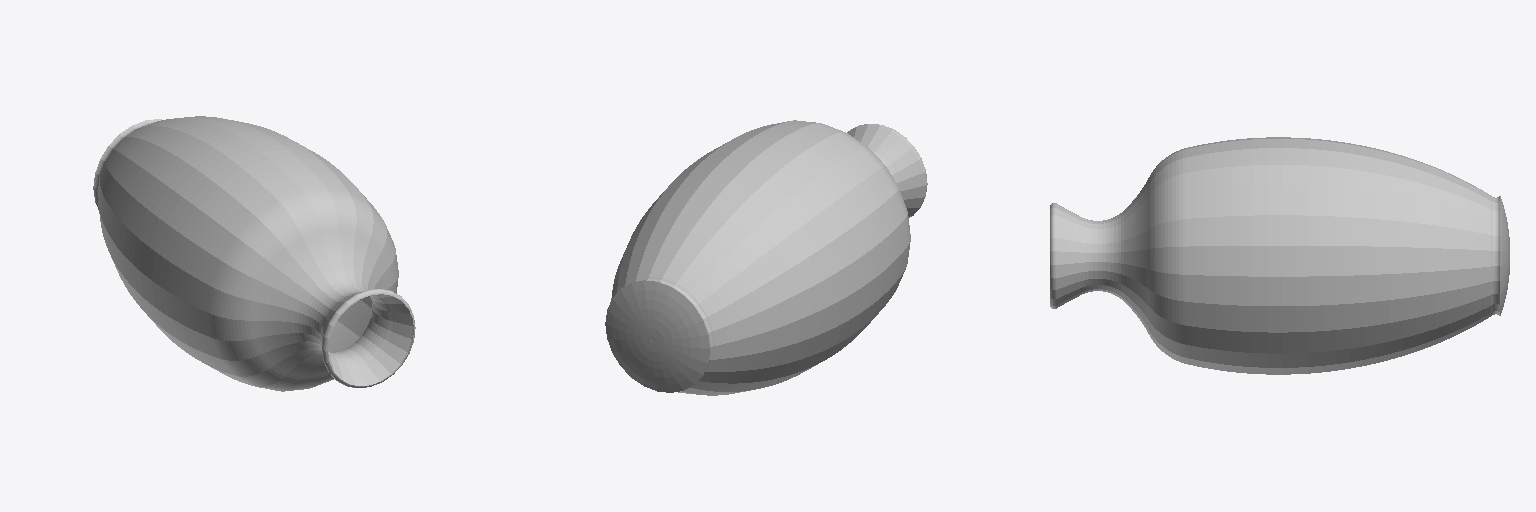
File: vase1.obj
3 renders of one model, left to right at view 1: azimuth 30°, elevation 25°; view 2: azimuth 150°, elevation 25°; view 3: azimuth 270°, elevation 25°, orthographic.
Size of the model in its own units: 83.07 by 83.07 by 160.